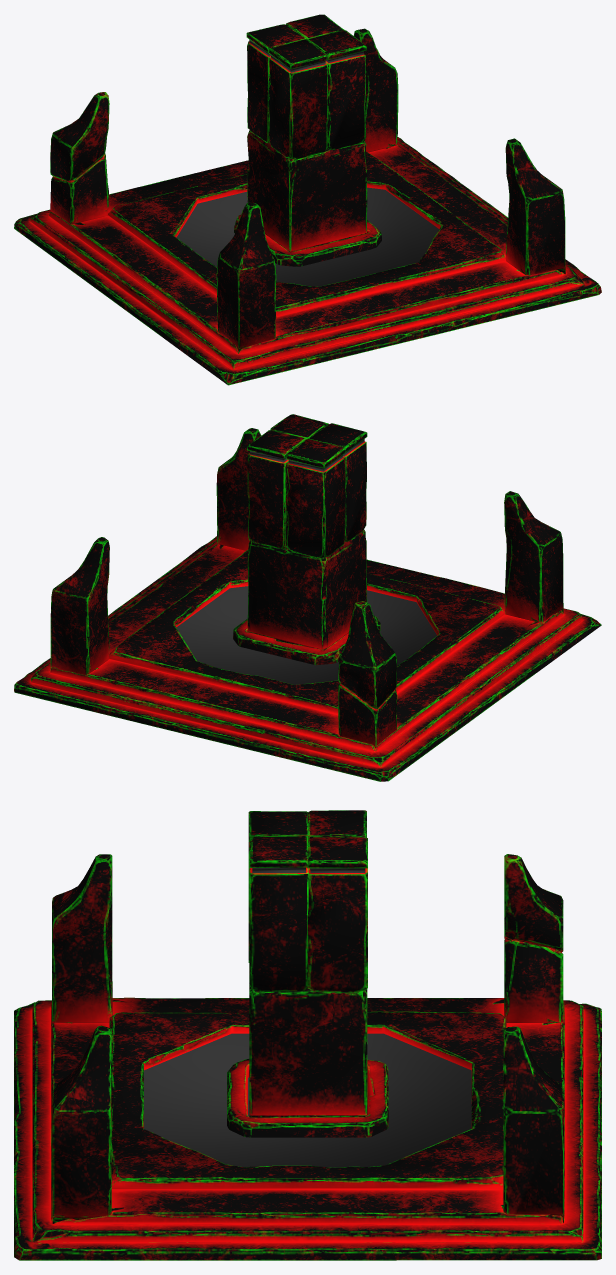
Rendered from SM_Entry.FBX.
3 renders of one model, top to bottom at view 1: azimuth 30°, elevation 25°; view 2: azimuth 150°, elevation 25°; view 3: azimuth 270°, elevation 25°, orthographic. The views are drawn at different scales.
Parts seen in each view (by area): view 1: Sm_EntryBase, SM_EntryPartG, Sm_EntryPartB, Sm_EntryPartE, Sm_EntryPartF, Sm_EntryPartC, Sm_EntryPartA, Sm_EntryPartD; view 2: Sm_EntryBase, SM_EntryPartG, Sm_EntryPartB, Sm_EntryPartC, Sm_EntryPartD, Sm_EntryPartE, Sm_EntryPartA, Sm_EntryPartF; view 3: Sm_EntryBase, SM_EntryPartG, Sm_EntryPartB, Sm_EntryPartD, Sm_EntryPartF, Sm_EntryPartA, Sm_EntryPartE, Sm_EntryPartC.
Part boxes in pixels (x1,y1,x2,y2): Sm_EntryBase: (14, 136, 601, 385); SM_EntryPartG: (50, 28, 565, 351); Sm_EntryPartB: (247, 130, 367, 252); Sm_EntryPartE: (268, 39, 328, 159); Sm_EntryPartF: (307, 30, 366, 149); Sm_EntryPartC: (246, 24, 306, 143); Sm_EntryPartA: (234, 214, 381, 266); Sm_EntryPartD: (286, 14, 344, 38); Sm_EntryBase: (14, 536, 601, 781); SM_EntryPartG: (50, 428, 563, 748); Sm_EntryPartB: (247, 529, 367, 650); Sm_EntryPartC: (286, 438, 345, 557); Sm_EntryPartD: (247, 430, 306, 548); Sm_EntryPartE: (308, 423, 367, 541); Sm_EntryPartA: (233, 615, 380, 665); Sm_EntryPartF: (270, 414, 328, 438); Sm_EntryBase: (14, 997, 601, 1260); SM_EntryPartG: (52, 854, 563, 1223); Sm_EntryPartB: (249, 963, 367, 1117); Sm_EntryPartD: (307, 836, 367, 992); Sm_EntryPartF: (249, 836, 308, 991); Sm_EntryPartA: (227, 1059, 388, 1137); Sm_EntryPartE: (248, 811, 308, 962); Sm_EntryPartC: (308, 810, 366, 837).
Bounding box in the file's own units: 1302 × 784 × 1302.
